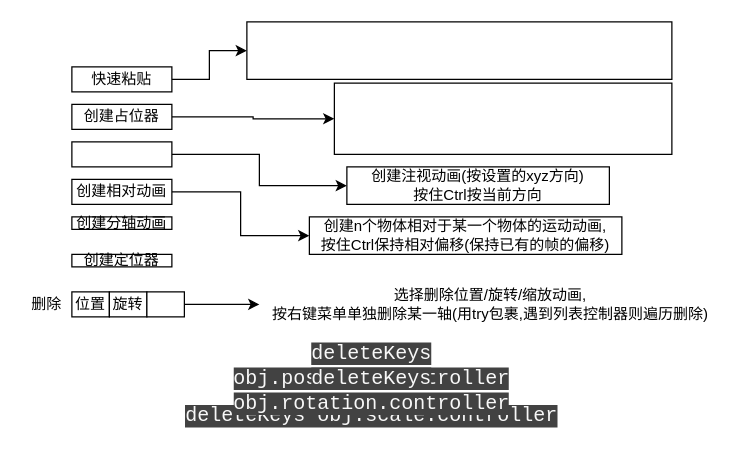
The diagram is 743 pixels wide and 451 high, and some of its shapes have lost their labels. The centre of each missing label's shape, as x and y in pixels:
创建注视动画: point 121,154
在当前变换创建一个占位符，尺寸取决于框架大小, 按住Ctrl添加原物体上的动画 按住Shift可链接各个占位符的层次 按住Alt创建额外的分轴器: point 502,118
点击粘贴后,选择要粘贴到的物体.选了几个就循环指定几个, 按住Ctrl可在粘贴后按顺序链接层级 右键菜单:仅粘贴位置,仅粘贴旋转,仅粘贴缩放.: point 459,50
缩放: point 165,304
